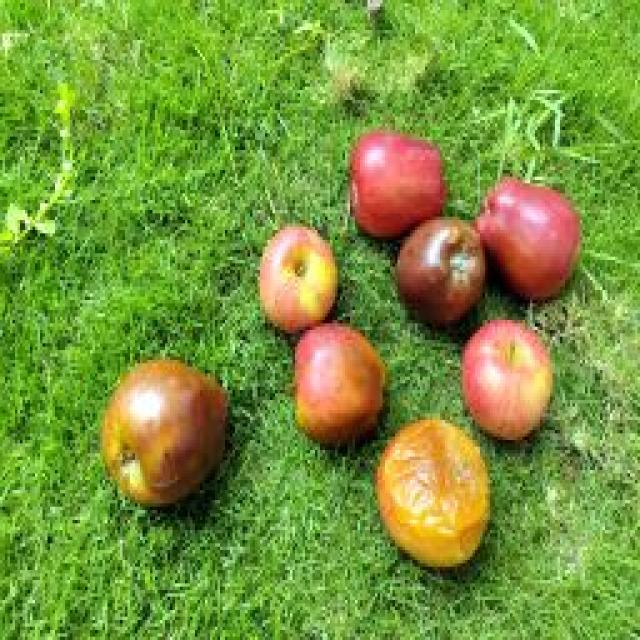Organik: (80, 345, 246, 516), (370, 421, 497, 573), (470, 134, 588, 295), (276, 327, 394, 451), (457, 315, 561, 451), (392, 210, 494, 332), (254, 217, 352, 329), (342, 136, 456, 232)
